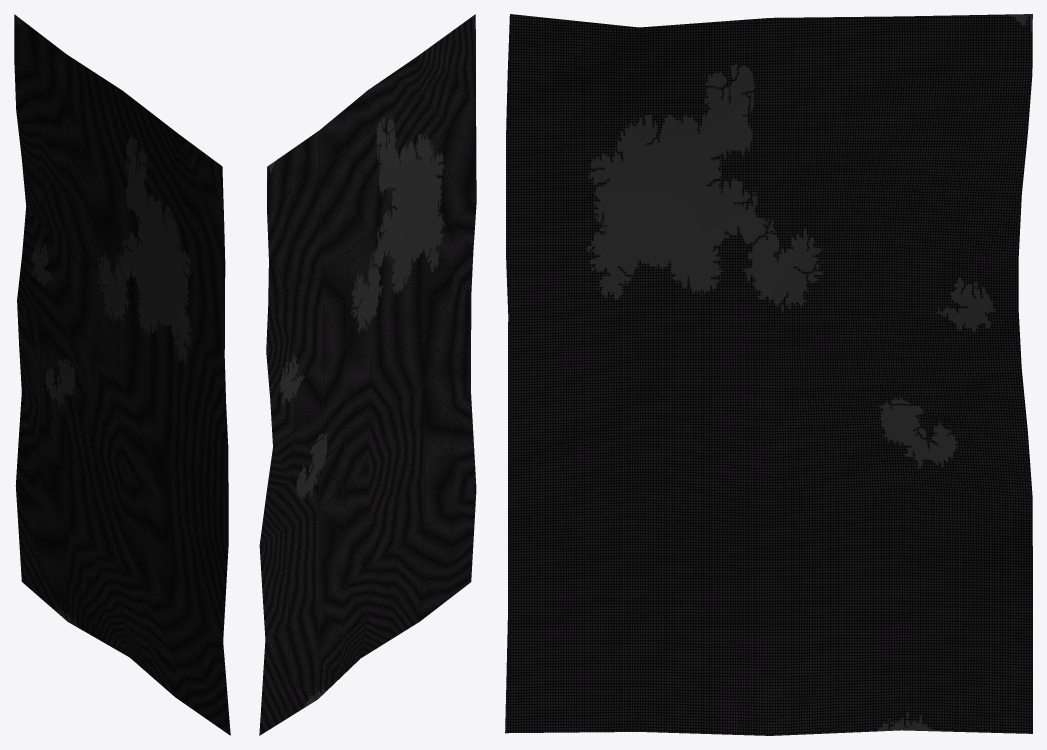
Rendered from screen02.glb.
The picture shows the model from 3 angles, left to right: view 1: azimuth 30°, elevation 25°; view 2: azimuth 150°, elevation 25°; view 3: azimuth 270°, elevation 25°; orthographic projection. The views are drawn at different scales.
Visible parts, largest first — view 1: screen02; view 2: screen02; view 3: screen02.
Part boxes in pixels (x1,y1,x2,y2): screen02: (14,14,230,735); screen02: (259,14,476,735); screen02: (505,14,1032,735).
Bounding box in the file's own units: 0.031 × 1.34 × 0.8967.
Materials: 1 (1 with a texture image).
